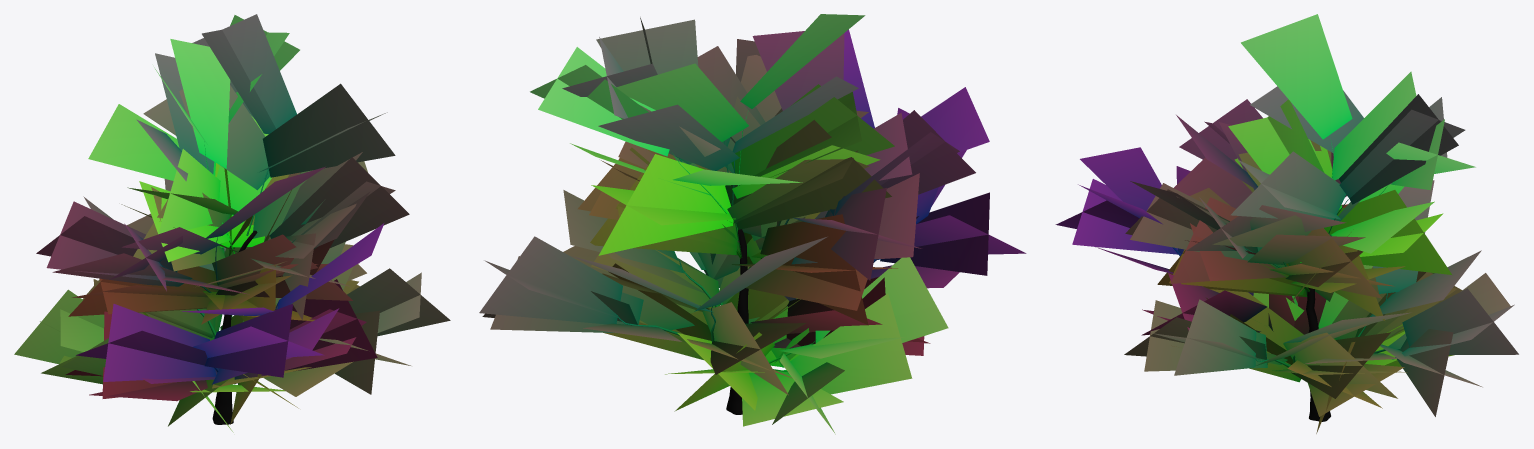
The model's file is M_Realistic21_12.fbx.
The picture shows the model from 3 angles, left to right: view 1: azimuth 30°, elevation 25°; view 2: azimuth 150°, elevation 25°; view 3: azimuth 270°, elevation 25°; orthographic projection. The views are drawn at different scales.
Visible parts, largest first — view 1: Tree_12; view 2: Tree_12; view 3: Tree_12.
Boxes of the visible parts, x1,y1,x2,y2 form: Tree_12: (14,14,450,432); Tree_12: (479,14,1026,434); Tree_12: (1055,14,1518,433).
Size of the model in its own units: 962 by 946 by 1080.
